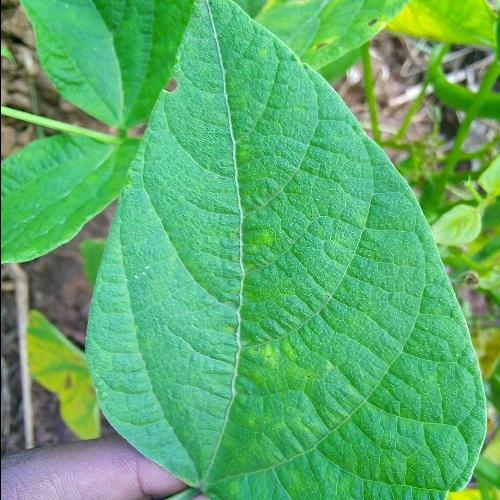hawar: (156, 71, 182, 96), (125, 263, 151, 287)
mozaik: (216, 99, 300, 460)
sehat: (341, 199, 413, 468)
